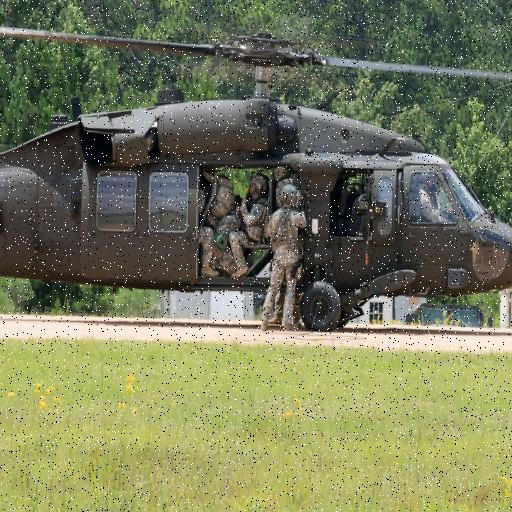helicopter: (1, 27, 512, 344)
